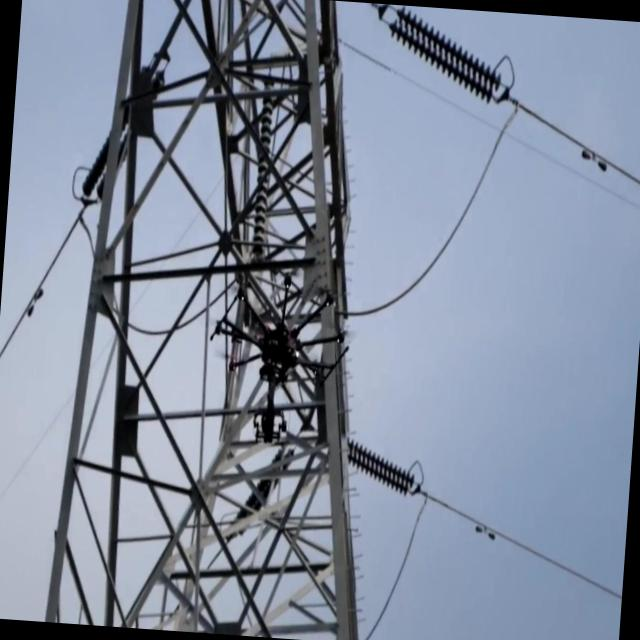drone: (202, 268, 354, 450)
